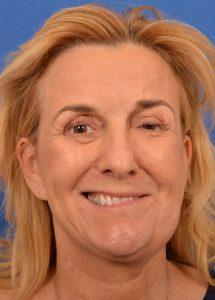strokeEyeSevere: (48, 96, 175, 146)
strokeMouthMid: (64, 182, 164, 215)
